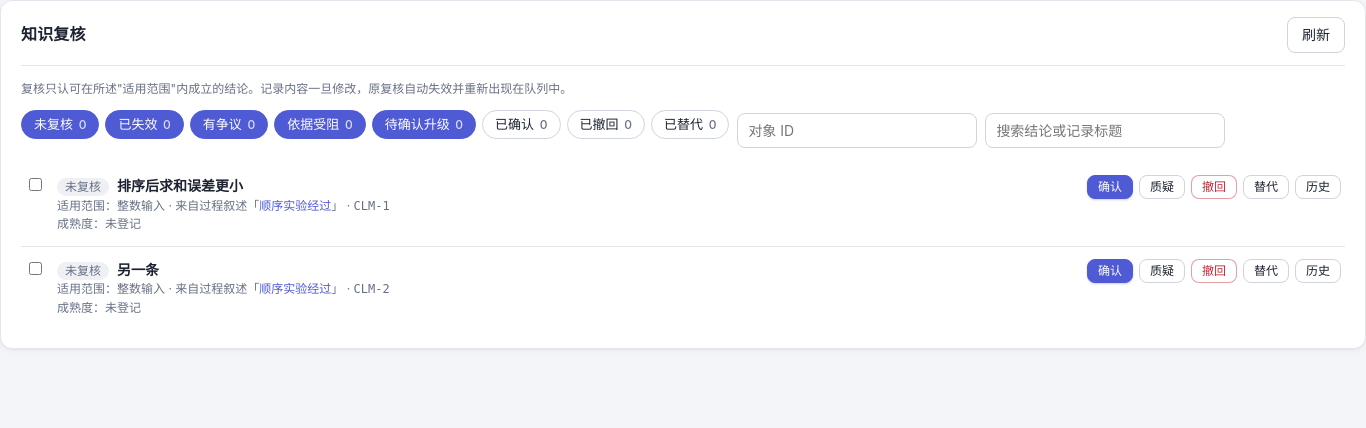
Test: 知识复核 › 改筛选后被隐藏的已选结论不计数、不提交；搜索框停顿后才查询
Check: the text "另一条" is shown, box [117,261,159,278]
Click the checkbox named "选择 CLM-1".
click(36, 184)  # box [29,178,42,191]
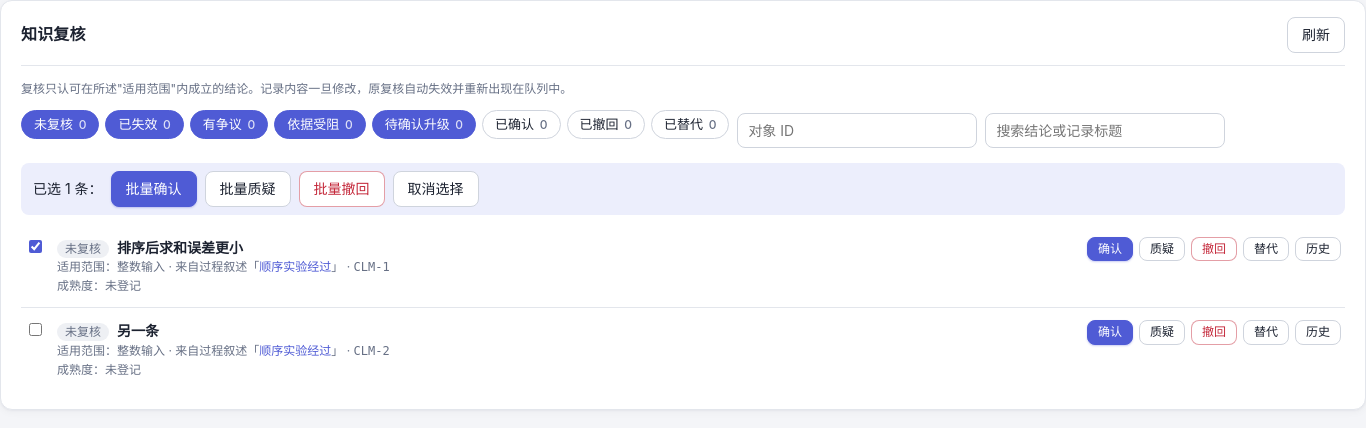
Click the checkbox named "选择 CLM-2".
click(36, 330)  # box [29,323,42,336]
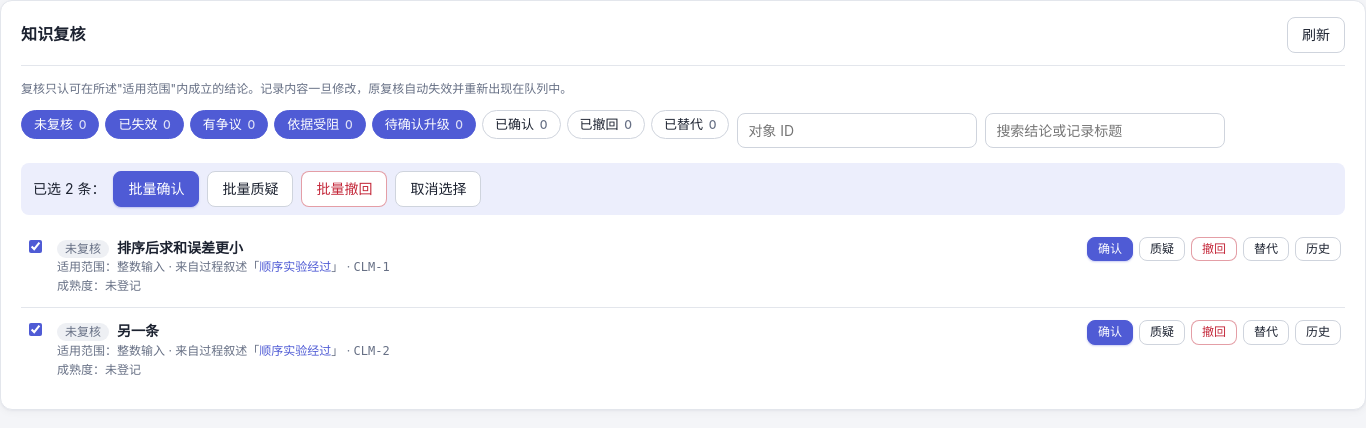
Check: the text "已选 2 条" is shown, box [21,163,1345,215]
Type "另" into the field with placeholder "搜索结论或记录标题".
click(1105, 131); type("另")  # box [985,113,1225,148]
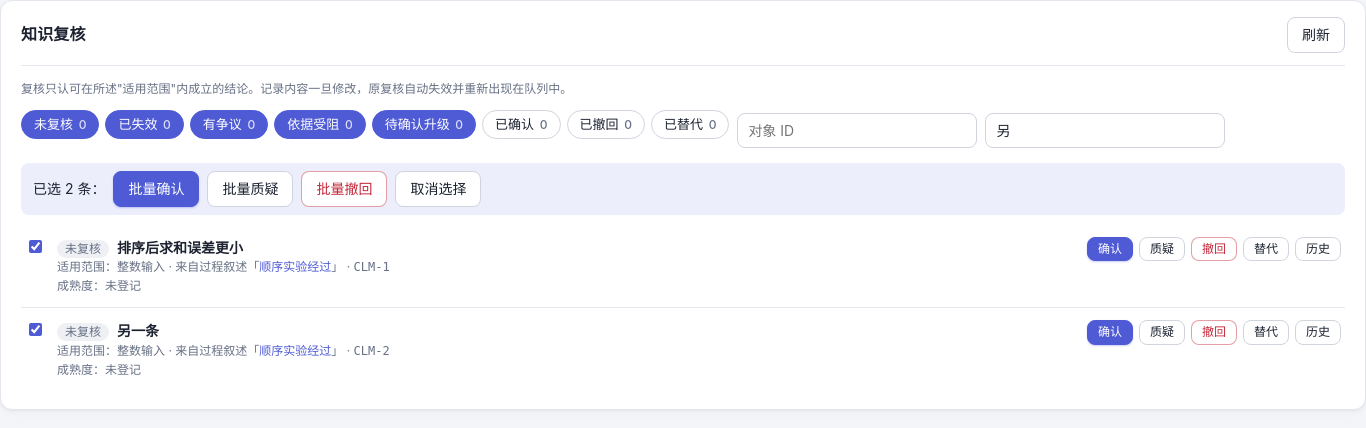
Replace the text in the field with placeholder "搜索结论或记录标题" with "另一" at (1105, 131), box [985,113,1225,148]
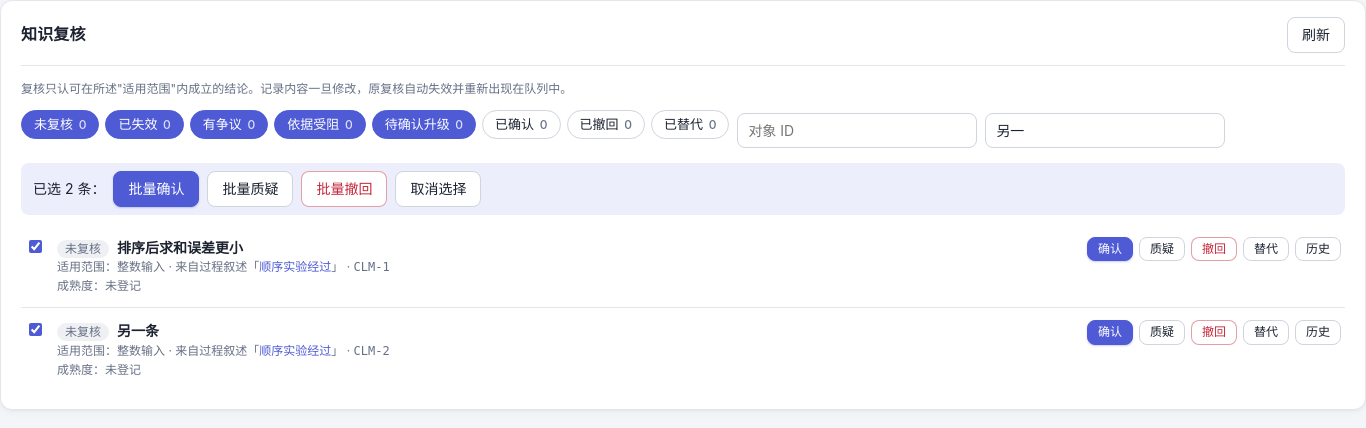
Replace the text in the field with placeholder "搜索结论或记录标题" with "另一条" at (1105, 131), box [985,113,1225,148]
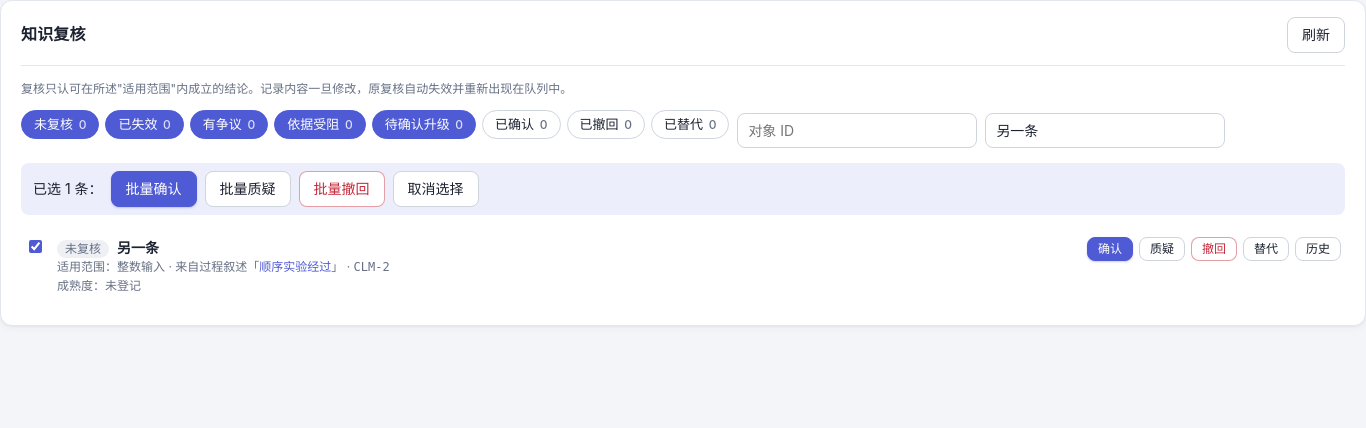
Check: the text "排序后求和误差更小" is gone
Check: the text "已选 1 条" is shown, box [21,163,1345,215]
Click the button "批量质疑".
click(248, 189)  # box [205,171,291,207]
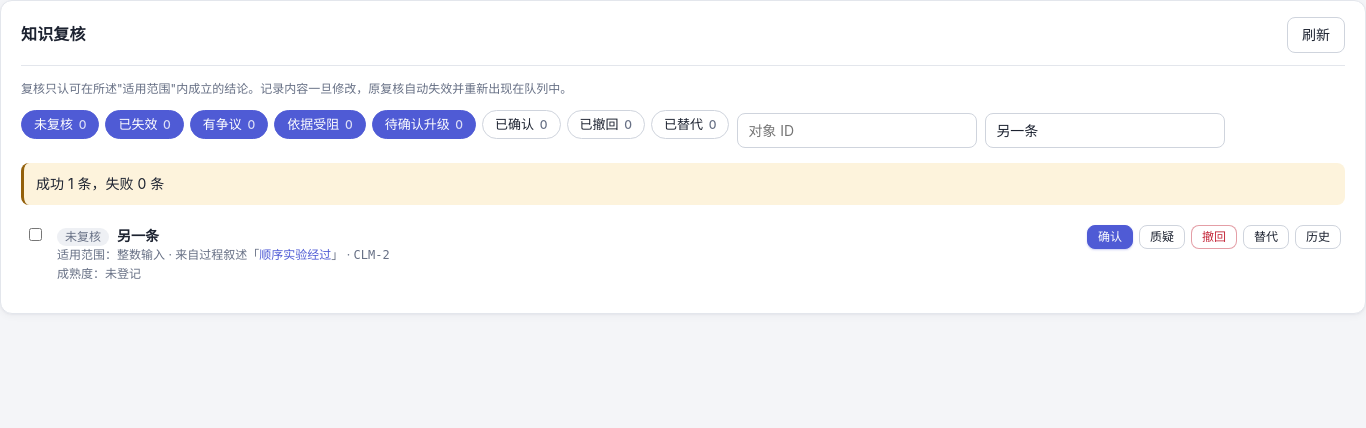
Check: the text "成功 1 条，失败 0 条" is shown, box [21,163,1345,205]
